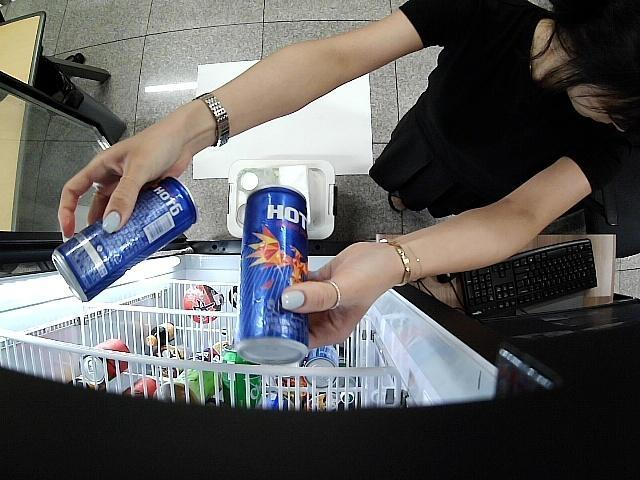16_hot6: (51, 174, 201, 302), (236, 186, 312, 366)
